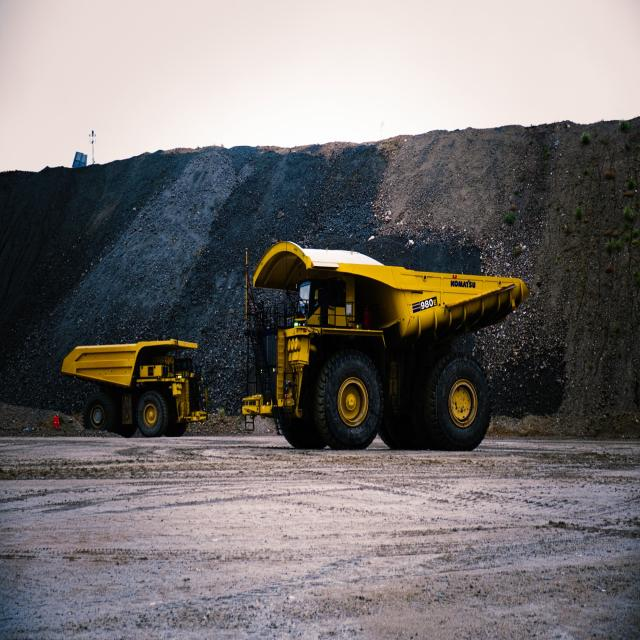dump_truck: (241, 233, 534, 462), (65, 319, 208, 444)
